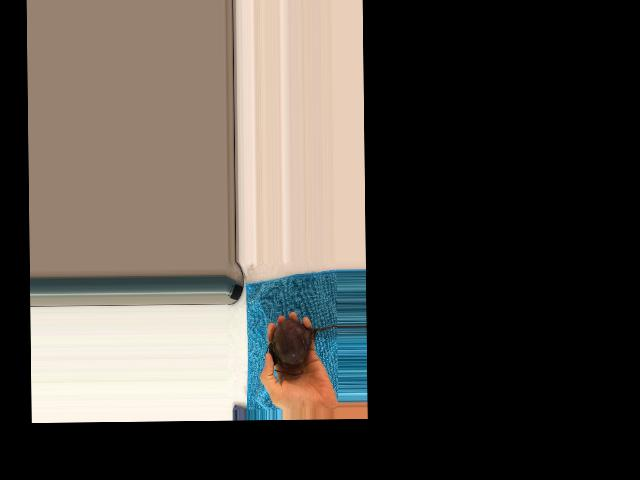beet: (265, 318, 338, 375)
